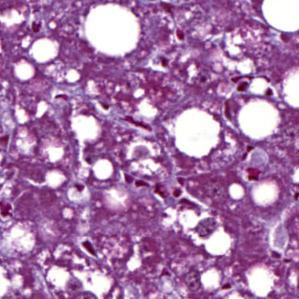steatosis: (83, 3, 143, 59), (175, 108, 222, 163), (235, 96, 283, 142), (199, 228, 234, 256), (246, 268, 278, 296)
